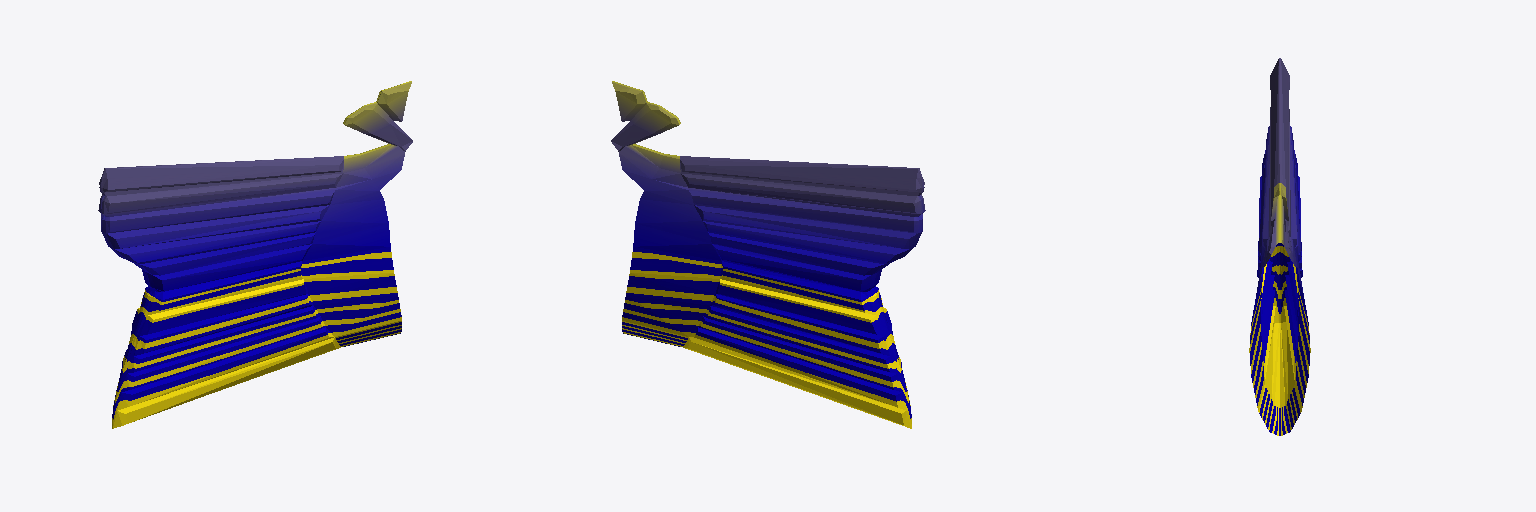
3 renders of one model, left to right at view 1: azimuth 30°, elevation 25°; view 2: azimuth 150°, elevation 25°; view 3: azimuth 270°, elevation 25°, orthographic.
Parts seen in each view (by area): view 1: main_polySurface633_group1; view 2: main_polySurface633_group1; view 3: main_polySurface633_group1.
Part boxes in pixels (x1,y1,x2,y2): main_polySurface633_group1: (98,81,412,428); main_polySurface633_group1: (611,81,925,428); main_polySurface633_group1: (1249,58,1310,435).
Bounding box in the file's own units: 1.67 × 1.4 × 0.2843.
1 materials, 1 textured.